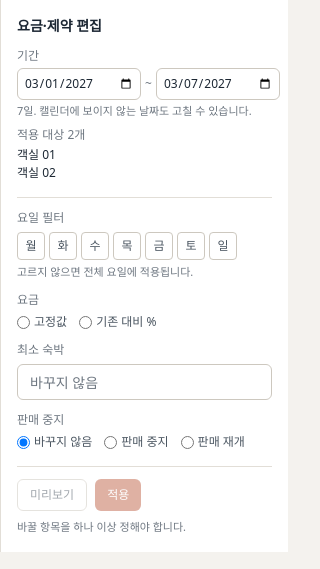
Test: 요금·제약 편집 패널 › 판매 재개만 골라도 미리보기와 적용이 눌린다
false 는 "바꿀 것 있음"이다. null 과 헷갈리면 판매 재개만 하려는 사람이 막힌다.
Click the radio button with test id "stop-sell-off". click: click(187, 442)
box: 181,436 -> 194,449
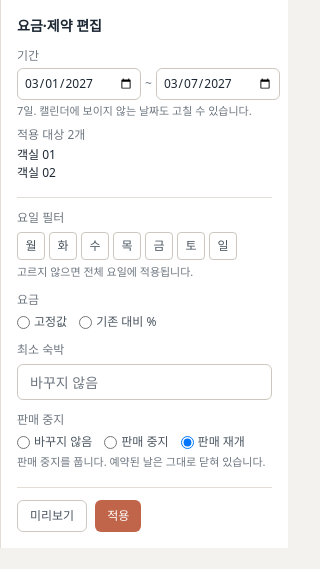
expect the button with test id "preview-button" is enabled: met, box 17,500 -> 87,532
expect the text with test id "stop-sell-hint" shows "판매 중지를 풉니다": met, box 17,454 -> 266,469
